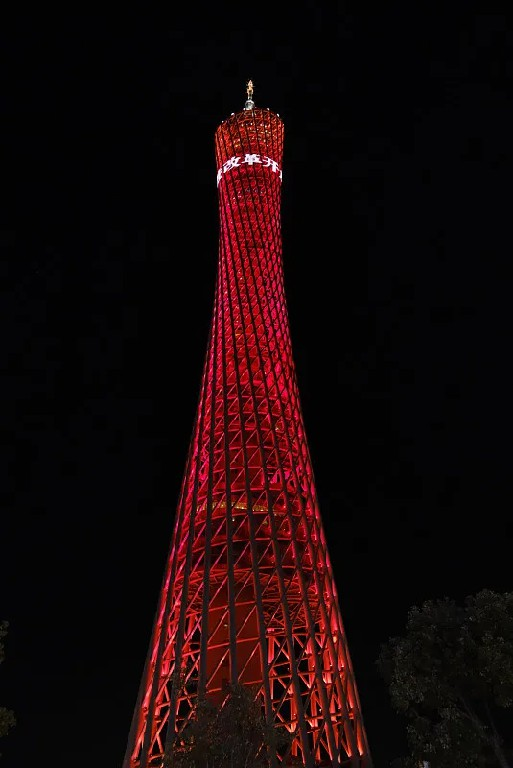Canton: (122, 78, 378, 768)
